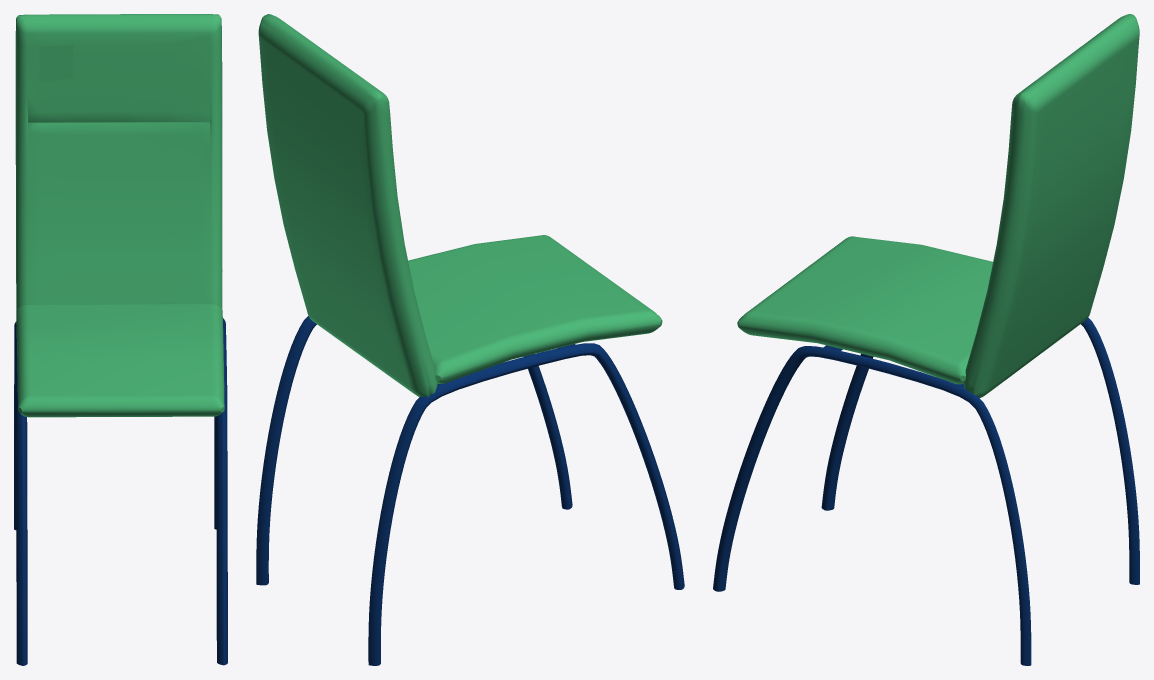
Rendered from chair.dae.
3 views of the same model, side by side, from view 1: azimuth 30°, elevation 25°; view 2: azimuth 150°, elevation 25°; view 3: azimuth 270°, elevation 25° (orthographic). The views are drawn at different scales.
Parts seen in each view (by area): view 1: chairFBXASC058Box002, chairFBXASC058Box001, chairFBXASC058Line001; view 2: chairFBXASC058Box002, chairFBXASC058Box001, chairFBXASC058Line001; view 3: chairFBXASC058Box002, chairFBXASC058Box001, chairFBXASC058Line001.
Boxes of the visible parts, box(x1,y1,x2,y2) form: chairFBXASC058Box002: box(15, 14, 222, 310); chairFBXASC058Box001: box(16, 303, 224, 417); chairFBXASC058Line001: box(14, 318, 227, 665); chairFBXASC058Box002: box(258, 14, 437, 397); chairFBXASC058Box001: box(408, 235, 662, 383); chairFBXASC058Line001: box(256, 316, 684, 665); chairFBXASC058Box002: box(963, 14, 1139, 398); chairFBXASC058Box001: box(737, 236, 992, 384); chairFBXASC058Line001: box(713, 317, 1139, 665).
Size of the model in its own units: 45.4 by 75.57 by 51.48.
